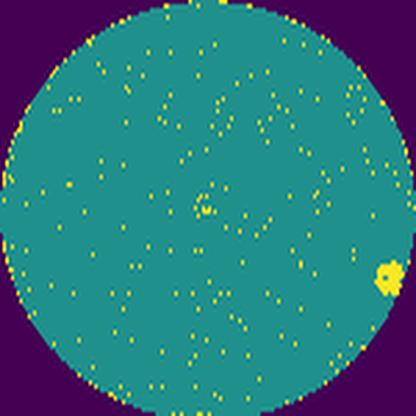Edge-Loc: (373, 257, 409, 302)
